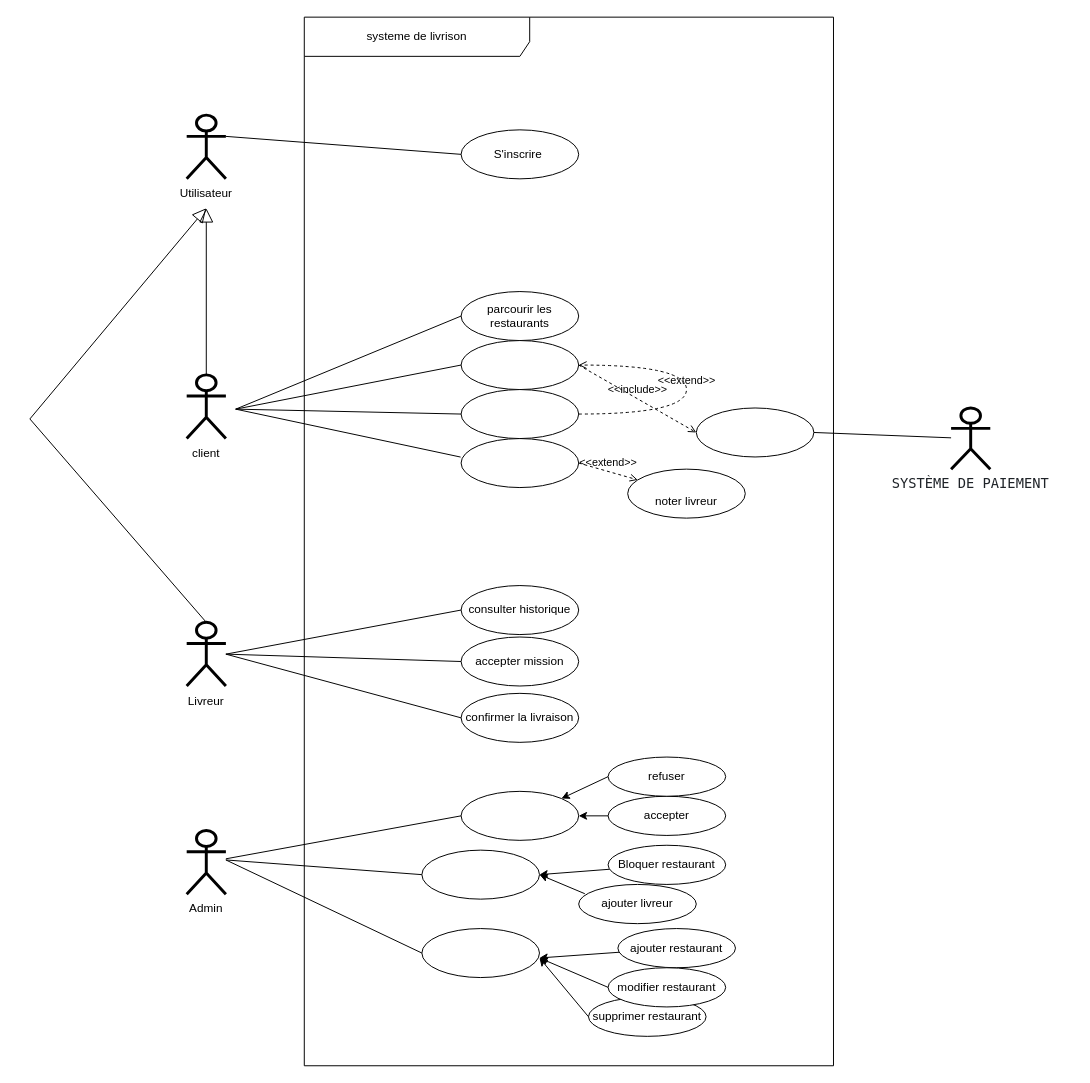
The diagram is 1090 pixels wide and 1083 high, and some of its shapes have lost their labels. Each missing label, with the box of its shape:
ajouter code promo: (460, 389, 579, 439)
gere les livreurs: (421, 849, 539, 899)
gere les restaurants: (421, 928, 539, 978)
gere les siganlement: (460, 790, 579, 840)
passer commande: (460, 340, 579, 390)
suiver livraison: (460, 438, 579, 488)
Traiter le paiment: (695, 407, 814, 457)
